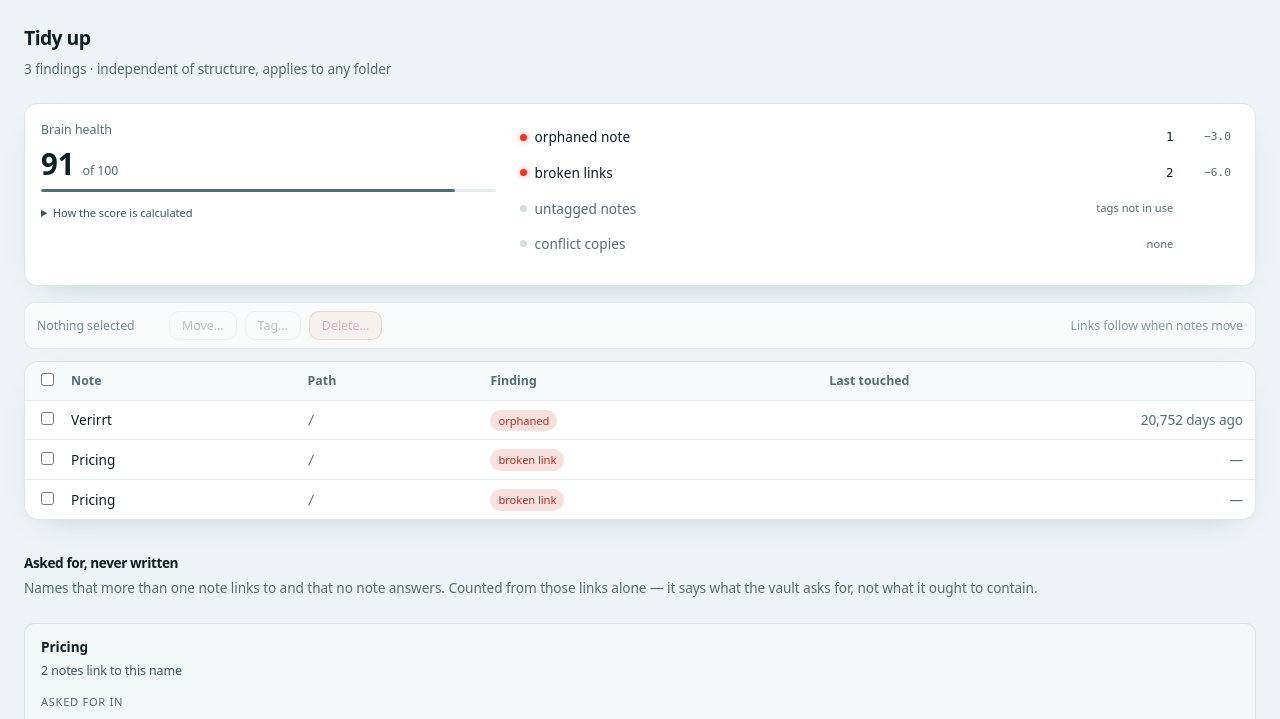
it: asked for, never written › stays out of sight while another finding is being worked through
# It belongs to the broken links, so narrowing to those keeps it…
Click the button with aria-label "Show the 2 broken" at (574, 172), box top-left (512, 156), bottom-right (1239, 190)
(page scrolled)
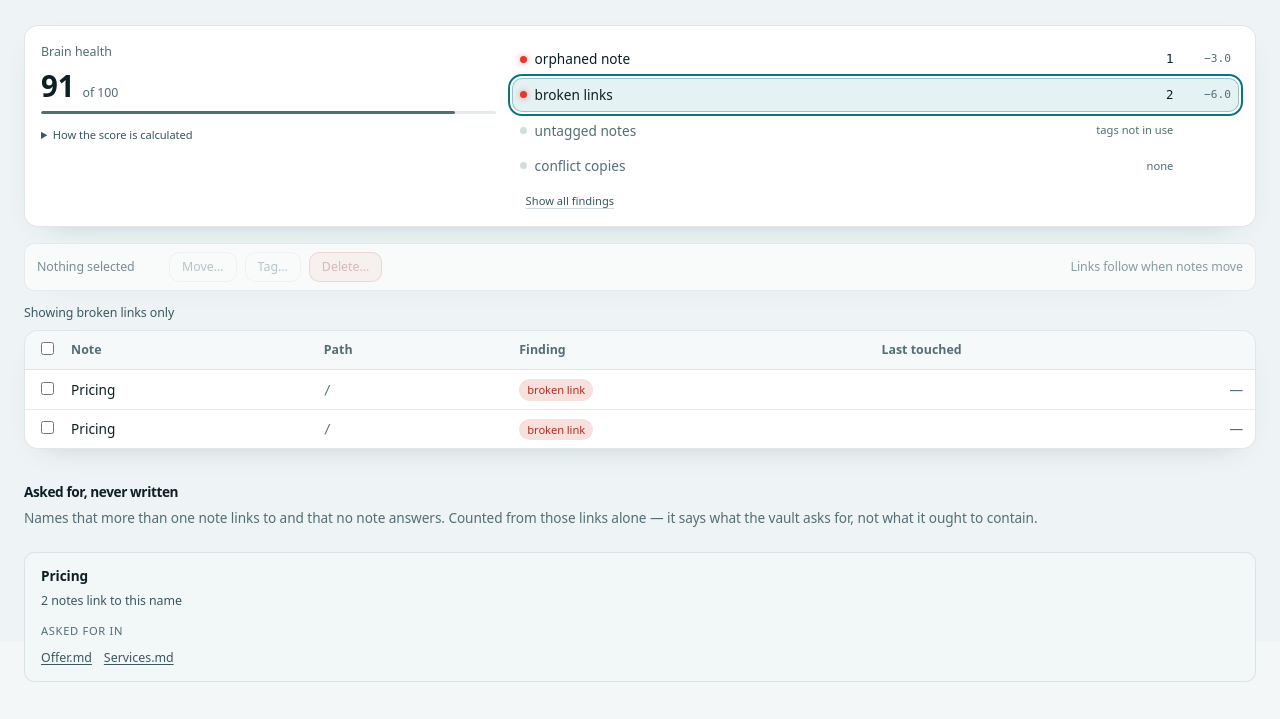
Expected: the element "Asked for, never written" is shown, top-left (24, 481), bottom-right (1256, 682)
# …and narrowing to anything else takes it away with them.
Click the button with aria-label "Show the 1 orphaned" at (582, 59), box top-left (512, 42), bottom-right (1239, 76)
(page scrolled)
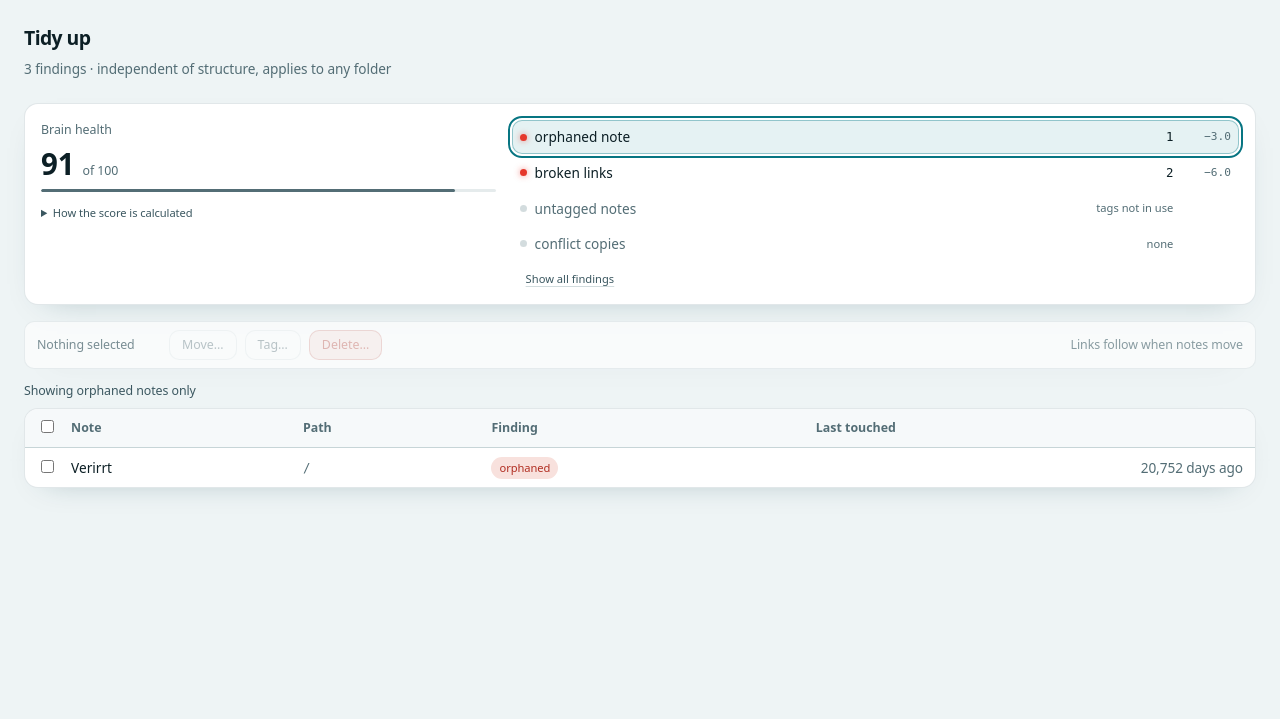
Now the heading "Asked for, never written" is gone
